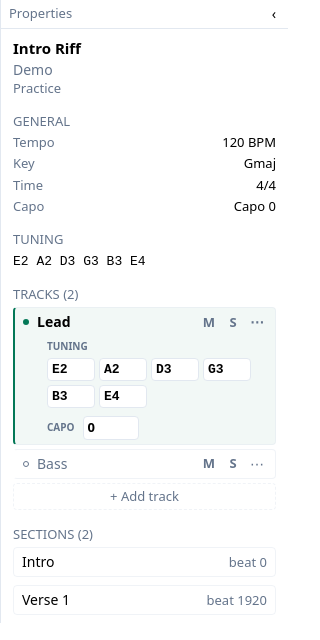
Test case: TabProperties › kebab opens a menu with Remove track on multi-track scores (TAB-009 T20)
The width and height of the screenshot is (320, 640).
Step 1. Click the button named "Track menu Bass" → x=257, y=464, box x1=247 y1=454 x2=267 y2=474
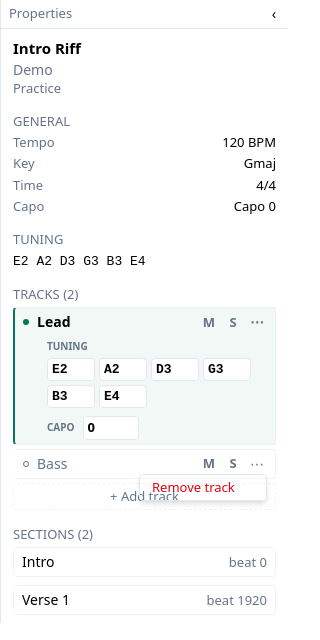
Expected: the menu item "Remove track" is shown, x1=140 y1=475 x2=266 y2=500
